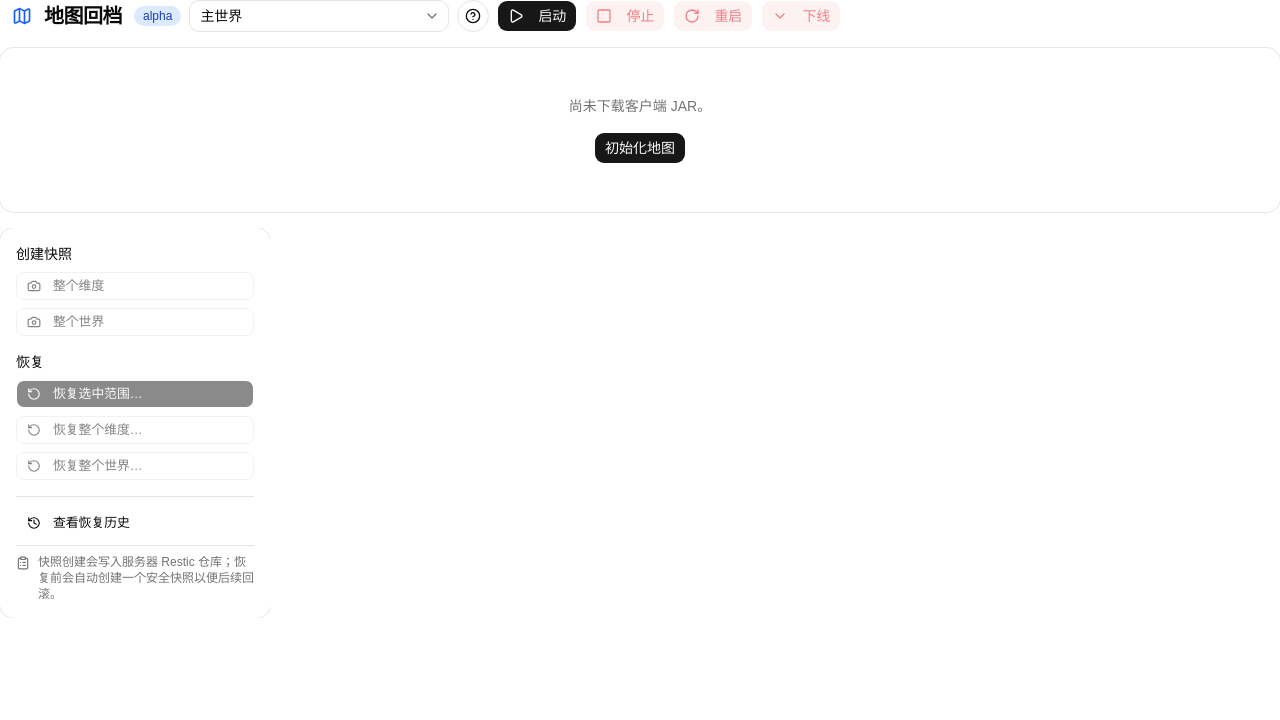
keeps restore initialization reasons and submits only a normal initialization
Expected: the text "尚未下载客户端 JAR。" is shown, [569, 96, 711, 116]
Click the button "初始化地图" at (640, 148), box [594, 132, 686, 164]
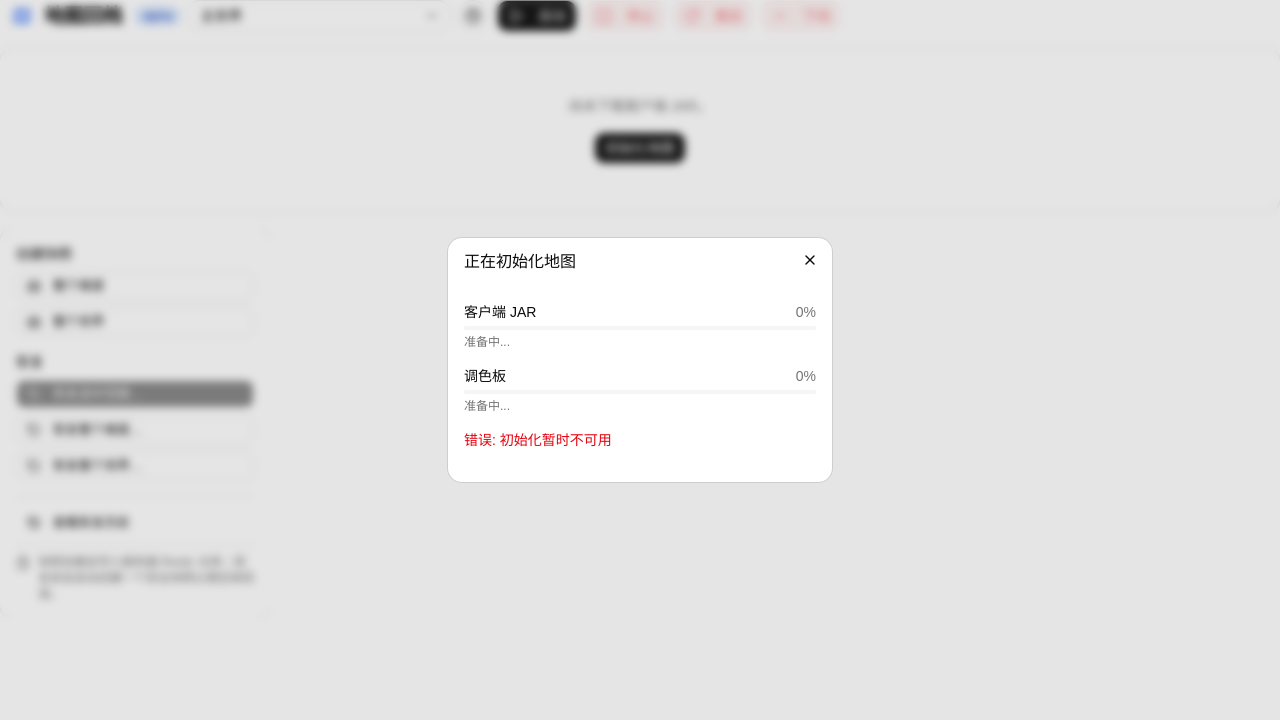
Result: the dialog "正在初始化地图" is shown at [448, 238, 832, 482]
Result: the text "错误: 初始化暂时不可用" is shown at [464, 432, 612, 448]
